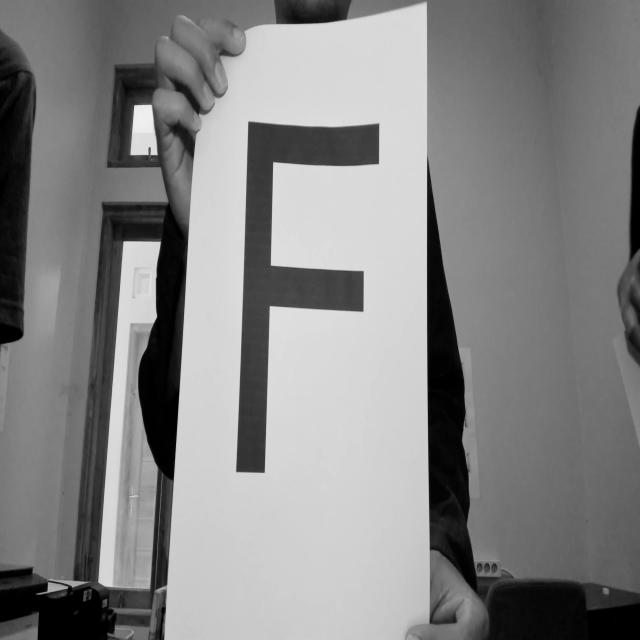f: (232, 90, 398, 517)
